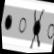correct: (3, 14, 15, 33)
no answer: (16, 16, 28, 37), (45, 22, 54, 41)
not correct: (25, 6, 48, 52)
